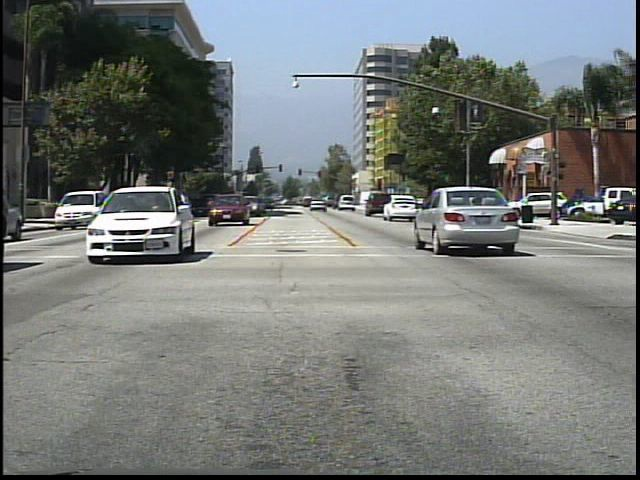person: (465, 191, 478, 221), (433, 191, 447, 215)
